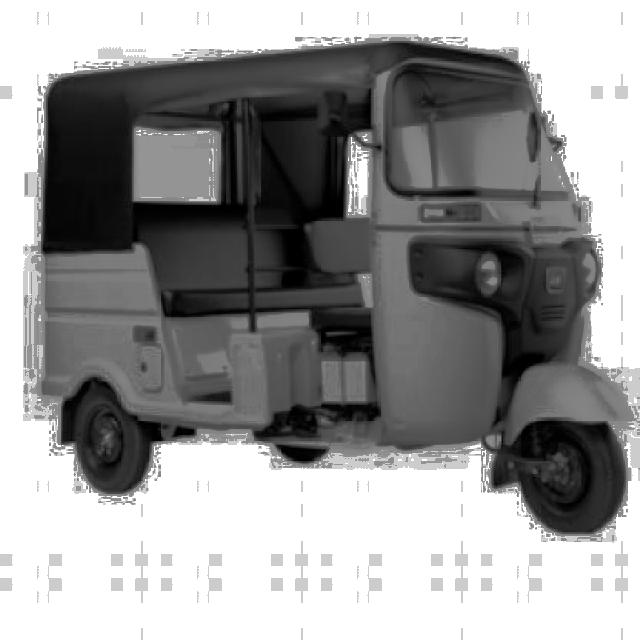Auto-Rickshaw: (32, 37, 626, 540)
